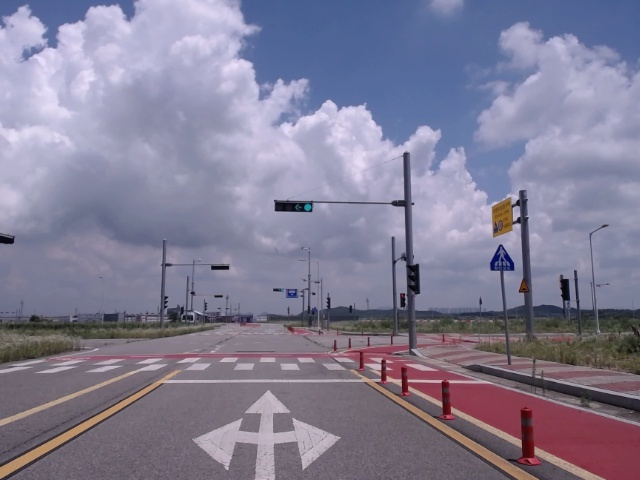all_green_4: (274, 199, 313, 213)
